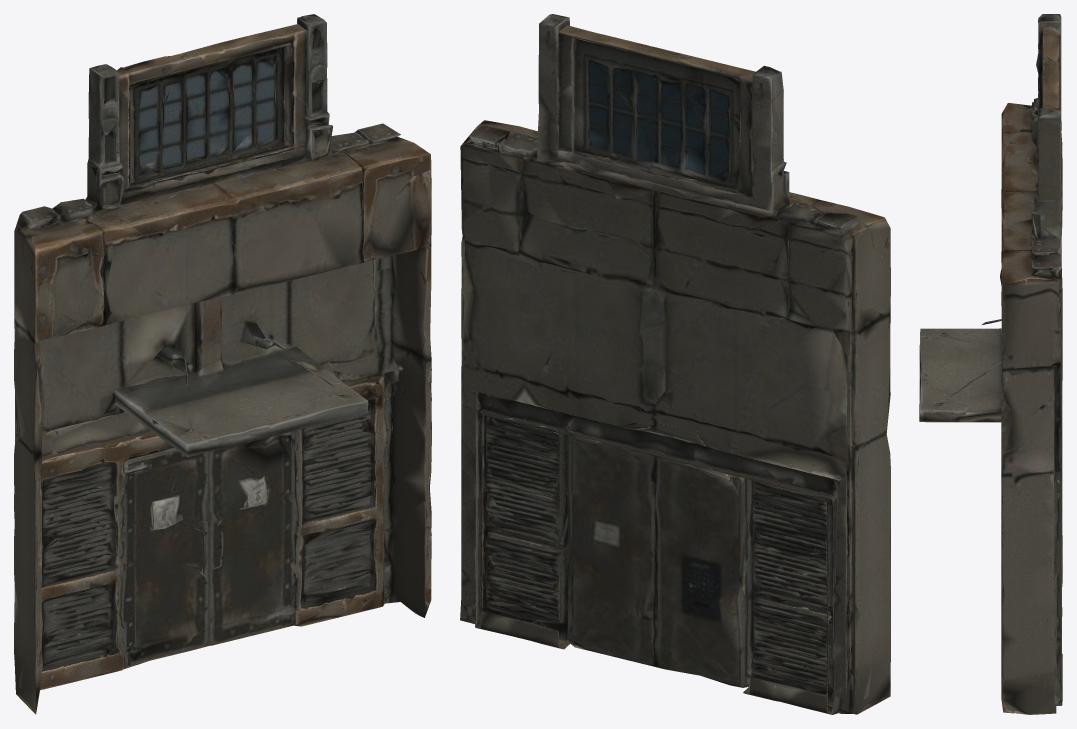
Rendered from headquarters.glb.
3 views of the same model, side by side, from view 1: azimuth 30°, elevation 25°; view 2: azimuth 150°, elevation 25°; view 3: azimuth 270°, elevation 25° (orthographic). The views are drawn at different scales.
Bounding box in the file's own units: 1.31 × 1.9 × 0.439.
Materials: 1 (1 with a texture image).
